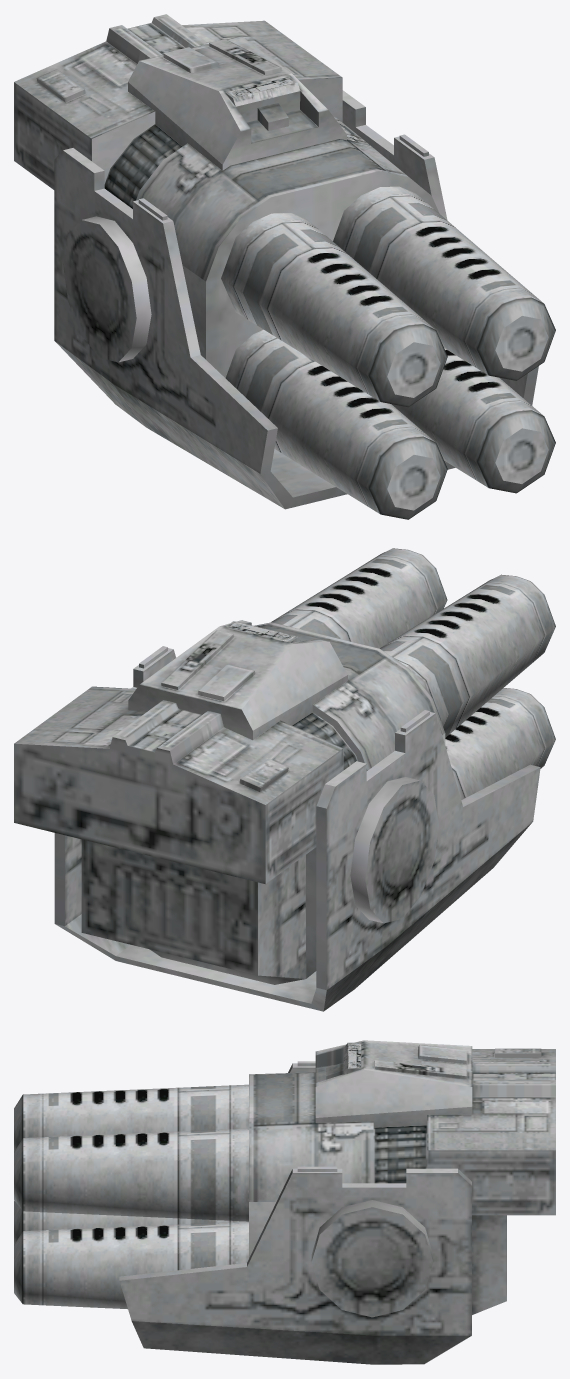
The model's file is ykl37r_turret_body_s01_l0.fbx.
3 renders of one model, top to bottom at view 1: azimuth 30°, elevation 25°; view 2: azimuth 150°, elevation 25°; view 3: azimuth 270°, elevation 25°, orthographic. The views are drawn at different scales.
Parts seen in each view (by area): view 1: mesh_node; view 2: mesh_node; view 3: mesh_node.
Boxes of the visible parts, box(x1,y1,x2,y2) form: mesh_node: box(14, 14, 555, 519); mesh_node: box(14, 548, 555, 1011); mesh_node: box(14, 1040, 555, 1364).
Bounding box in the file's own units: 1.1 × 1.13 × 2.05.
1 material, 1 textured.
